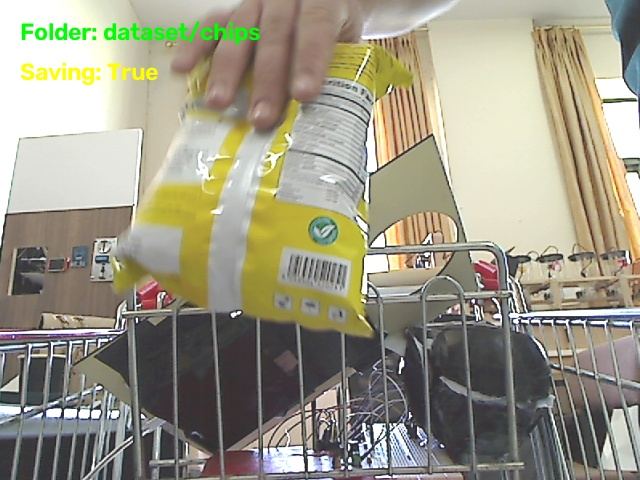chips: (114, 44, 411, 335)
